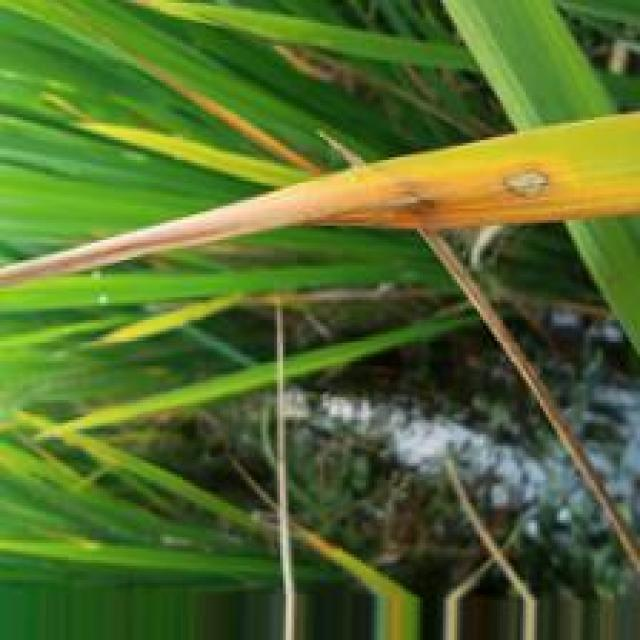Leaf_Blast: (0, 161, 640, 282)
